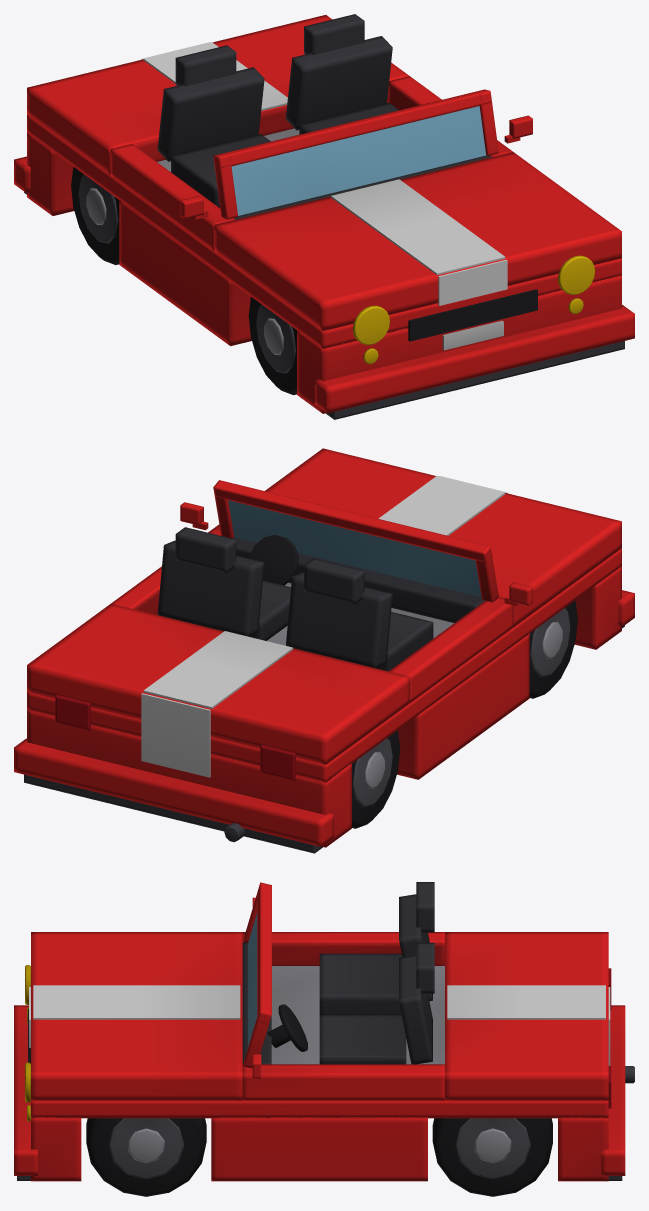
File: IntroCar.fbx
3 renders of one model, top to bottom at view 1: azimuth 30°, elevation 25°; view 2: azimuth 150°, elevation 25°; view 3: azimuth 270°, elevation 25°, orthographic. The views are drawn at different scales.
Parts seen in each view (by area): view 1: Body; view 2: Body; view 3: Body.
Part boxes in pixels (x1,y1,x2,y2): Body: [14, 14, 634, 419]; Body: [14, 448, 634, 853]; Body: [14, 882, 634, 1196].
Size of the model in its own units: 8.15 by 4.8 by 12.9.
